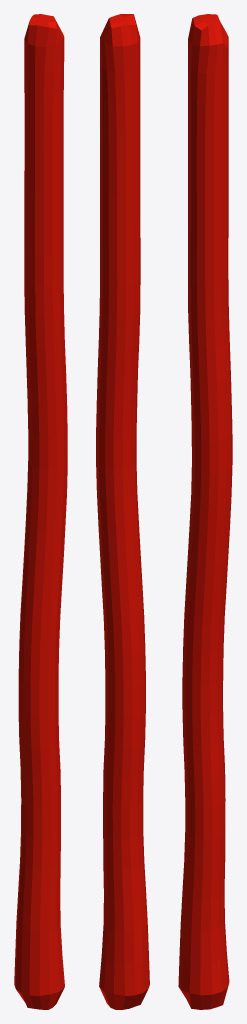
Rendered from ThinTrunk.gltf.
3 renders of one model, left to right at view 1: azimuth 30°, elevation 25°; view 2: azimuth 150°, elevation 25°; view 3: azimuth 330°, elevation 25°, orthographic.
Visible parts, largest first — view 1: Retopo_TRONC FIN; view 2: Retopo_TRONC FIN; view 3: Retopo_TRONC FIN.
Part boxes in pixels (left/top/right/bottom): Retopo_TRONC FIN: left=14, top=14, right=67, bottom=1009; Retopo_TRONC FIN: left=96, top=14, right=149, bottom=1009; Retopo_TRONC FIN: left=178, top=14, right=232, bottom=1009.
Bounding box in the file's own units: 1.46 × 29.34 × 1.36.
